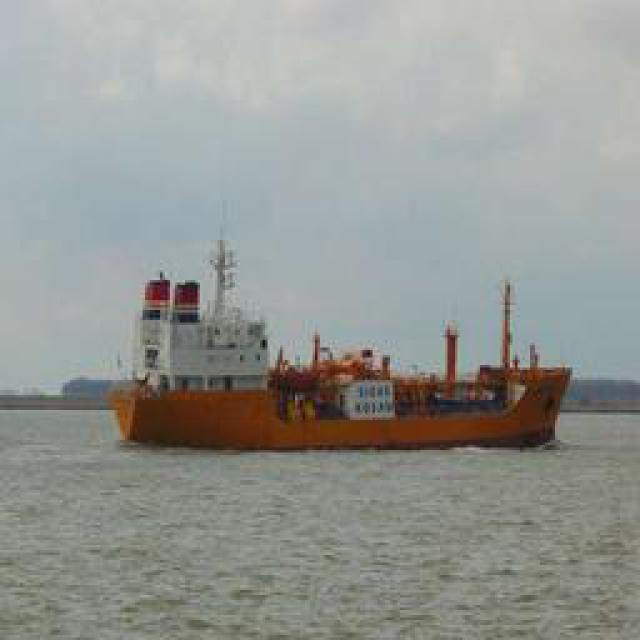Ship: (94, 274, 574, 457)
